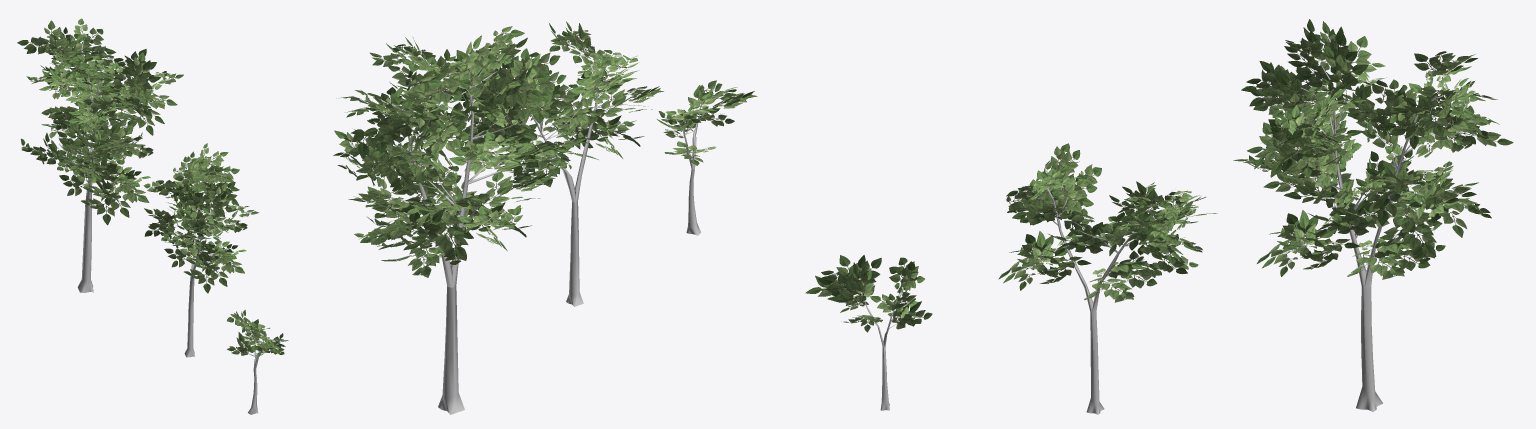
File: Gmelina_Seeding_1-3.fbx
The picture shows the model from 3 angles, left to right: view 1: azimuth 30°, elevation 25°; view 2: azimuth 150°, elevation 25°; view 3: azimuth 270°, elevation 25°; orthographic projection. The views are drawn at different scales.
Parts seen in each view (by area): view 1: Gmelina_Seeding_3, Gmelina_Seeding_2, Gmelina_Seeding_1; view 2: Gmelina_Seeding_3, Gmelina_Seeding_2, Gmelina_Seeding_1; view 3: Gmelina_Seeding_3, Gmelina_Seeding_2, Gmelina_Seeding_1.
Part boxes in pixels (bbox=[...]): Gmelina_Seeding_3: bbox=[17, 18, 183, 292]; Gmelina_Seeding_2: bbox=[143, 143, 258, 357]; Gmelina_Seeding_1: bbox=[227, 310, 288, 414]; Gmelina_Seeding_3: bbox=[333, 26, 572, 414]; Gmelina_Seeding_2: bbox=[453, 21, 663, 306]; Gmelina_Seeding_1: bbox=[657, 80, 757, 235]; Gmelina_Seeding_3: bbox=[1233, 19, 1513, 411]; Gmelina_Seeding_2: bbox=[998, 143, 1217, 414]; Gmelina_Seeding_1: bbox=[805, 255, 932, 410].
Bounding box in the file's own units: 224 × 362 × 650.
